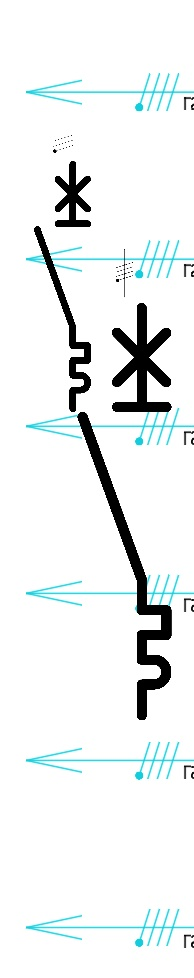interruptor_termomagnetico: (72, 297, 177, 726), (31, 158, 94, 415)
